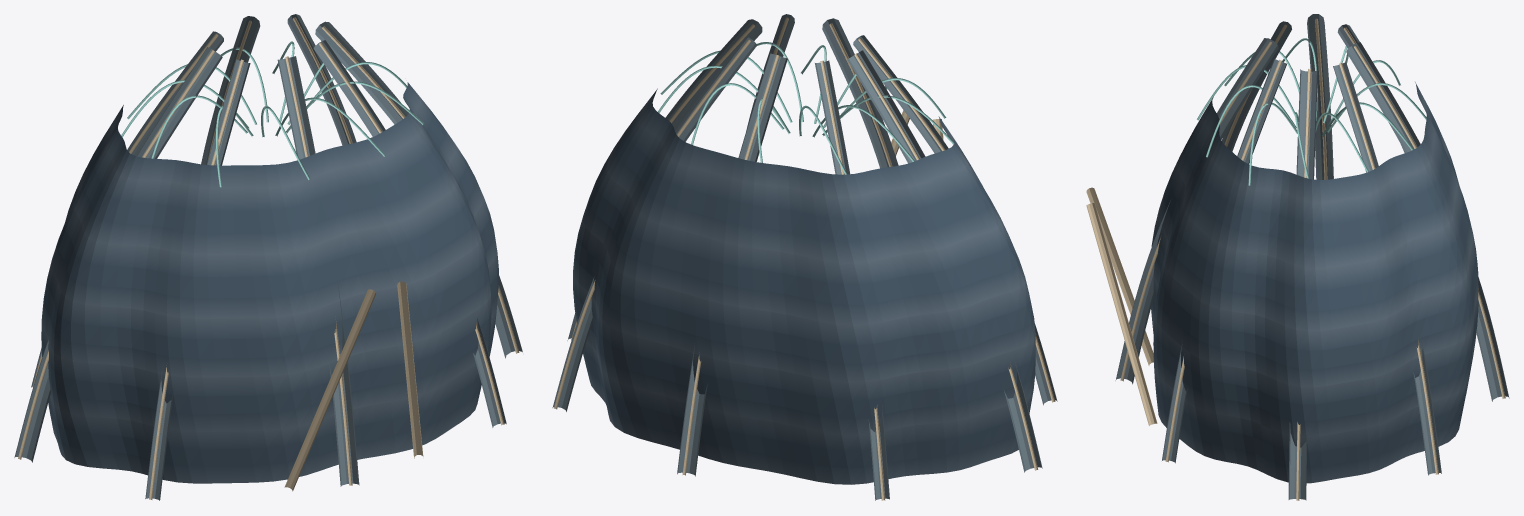
Rendered from hexcore_destination_03.glb.
3 renders of one model, left to right at view 1: azimuth 30°, elevation 25°; view 2: azimuth 150°, elevation 25°; view 3: azimuth 270°, elevation 25°, orthographic. The views are drawn at different scales.
Parts seen in each view (by area): view 1: world; view 2: world; view 3: world.
Boxes of the visible parts, box(x1,y1,x2,y2) form: world: box(14, 14, 522, 500); world: box(552, 14, 1057, 500); world: box(1086, 14, 1509, 500).
Size of the model in its own units: 39.11 by 28.82 by 31.06.
